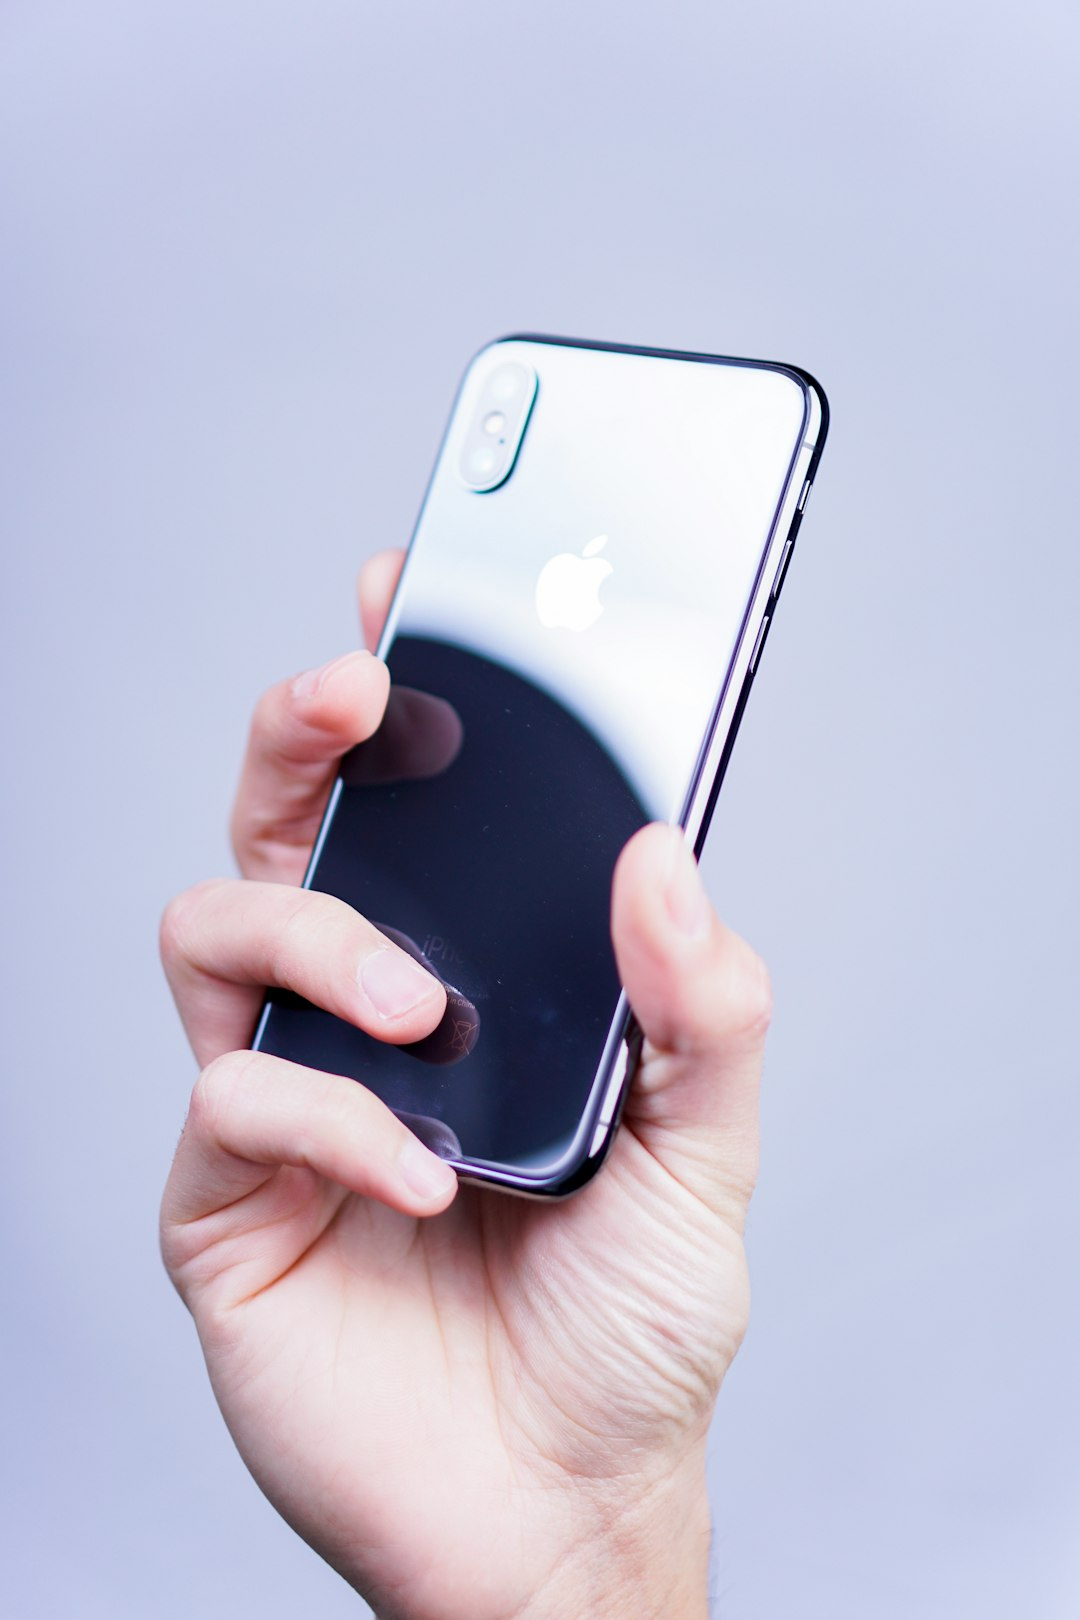phone: (234, 325, 830, 1197)
